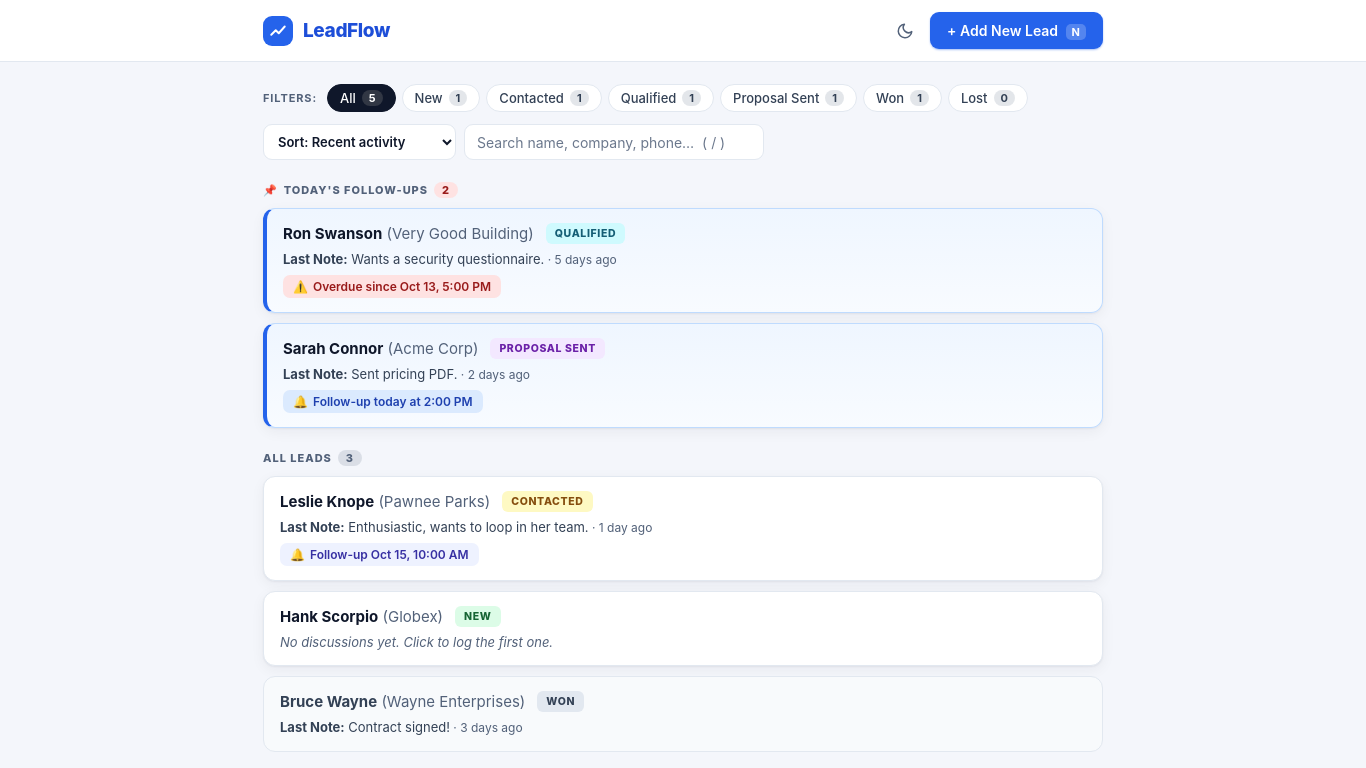
lead list › filters by status with live counts, and searches
Expected: the text "Sarah Connor" is shown, [283,339,383,358]
Click the button "Won 1": (902, 98) [863,84,942,112]
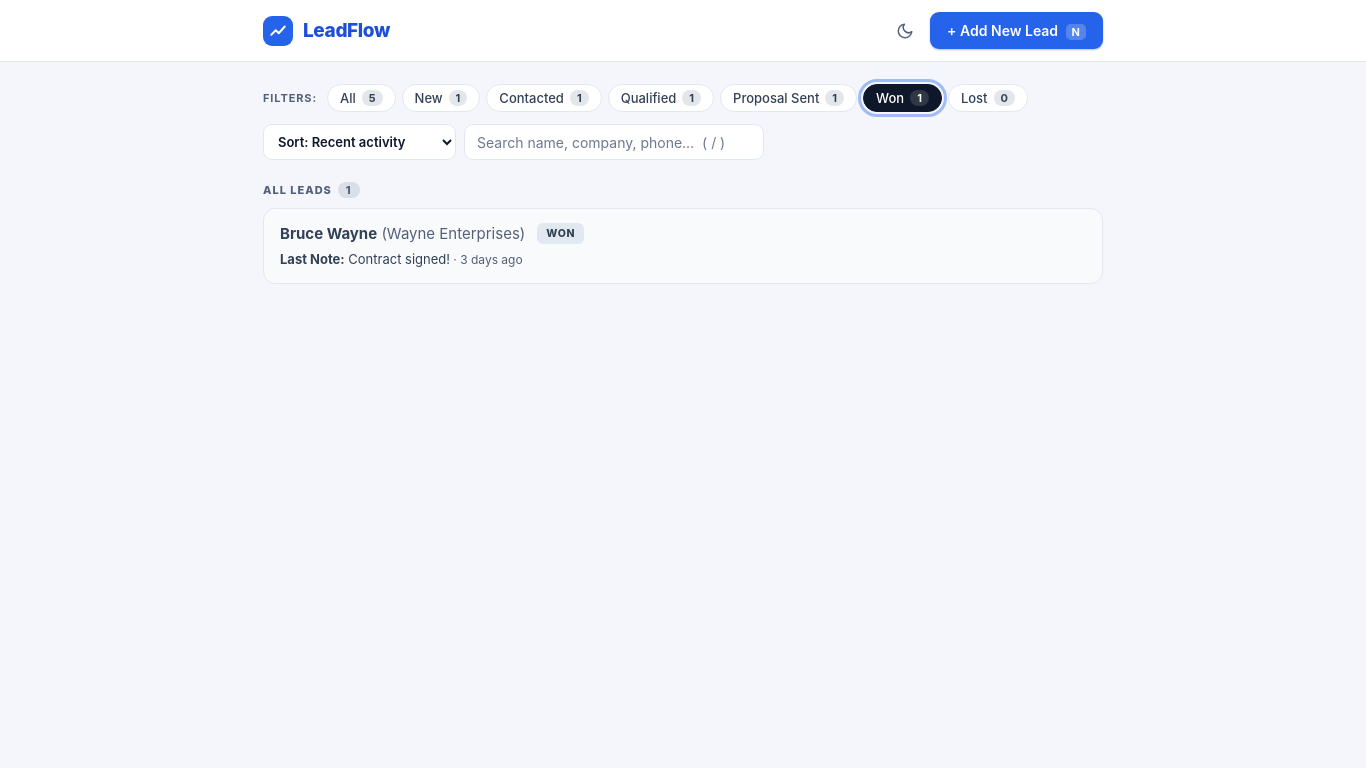
Expected: the text "Bruce Wayne" is shown, [280,224,377,243]
Result: the button "Sarah Connor" is gone
Click the button "All 5": (361, 98) [327,84,396,112]
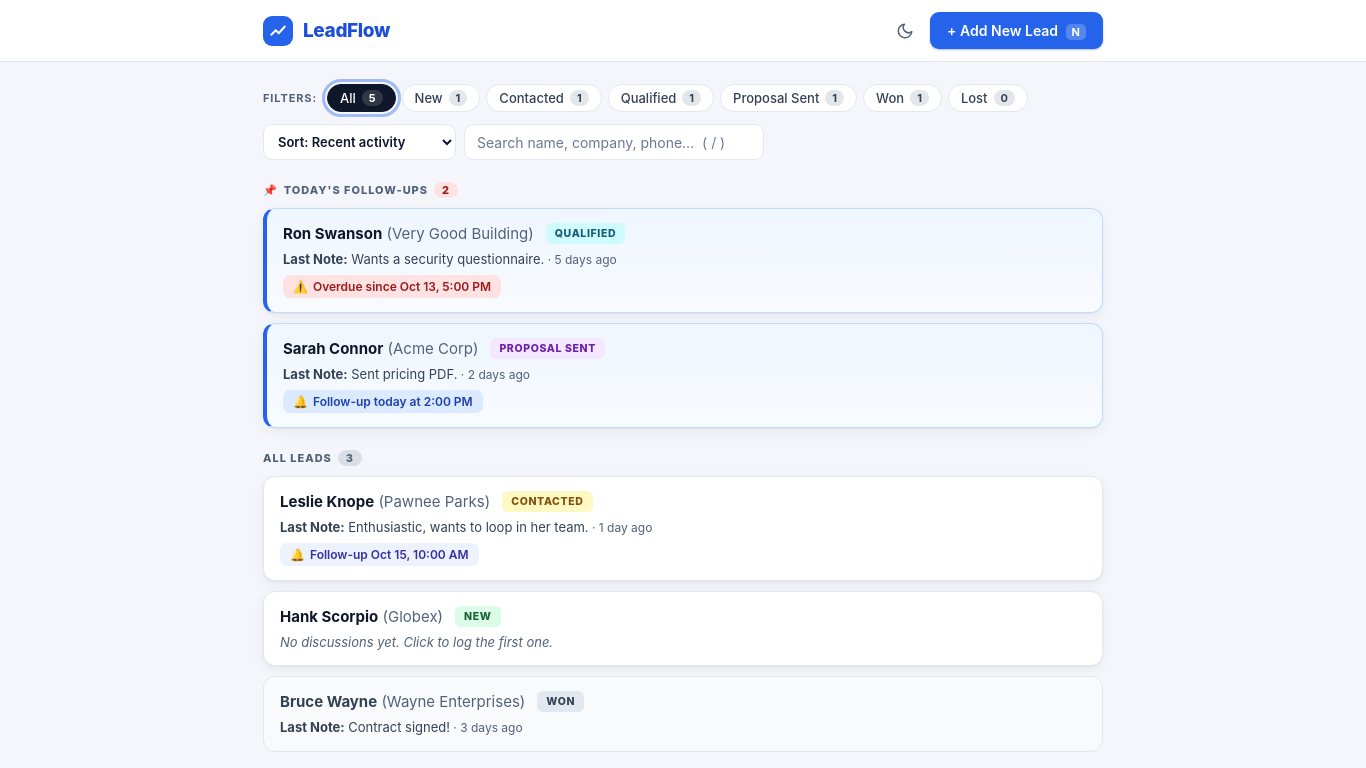
In the search field named "search leads": (614, 142) [464,124,764,160], type "globex"
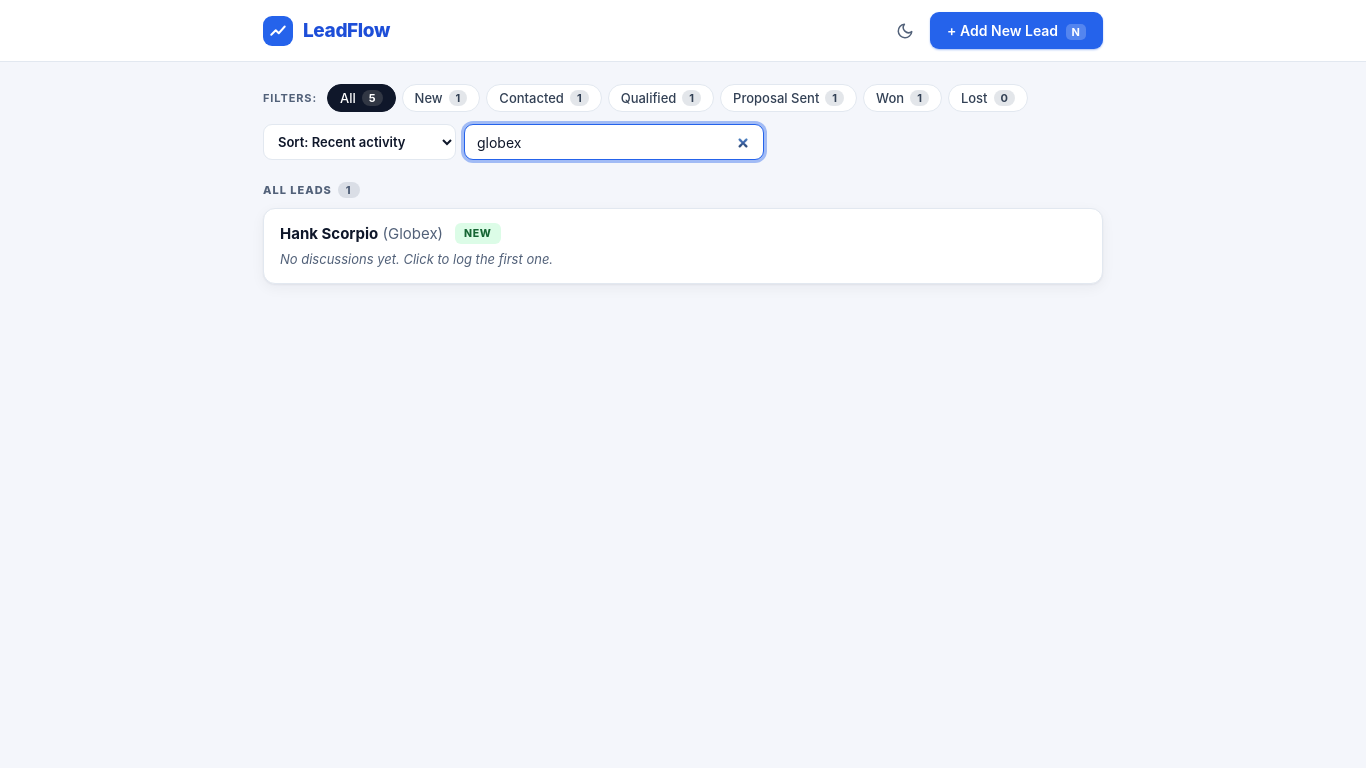
Result: the text "Hank Scorpio" is shown at [280,224,378,243]
Result: the button "Leslie Knope" is gone
Replace the text in the search field with "zzz": (614, 142) [464,124,764,160]
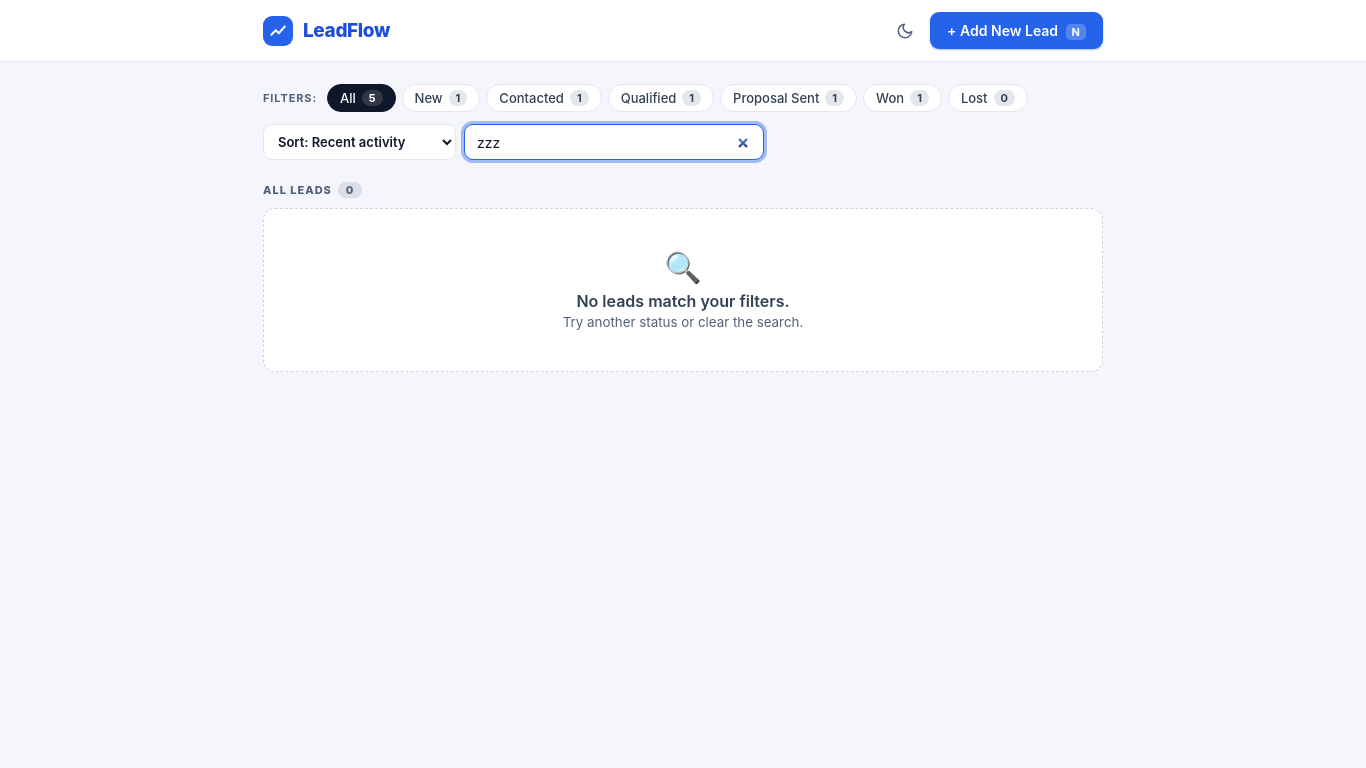
Result: the text "No leads match your filters." is shown at [576,291,790,311]
